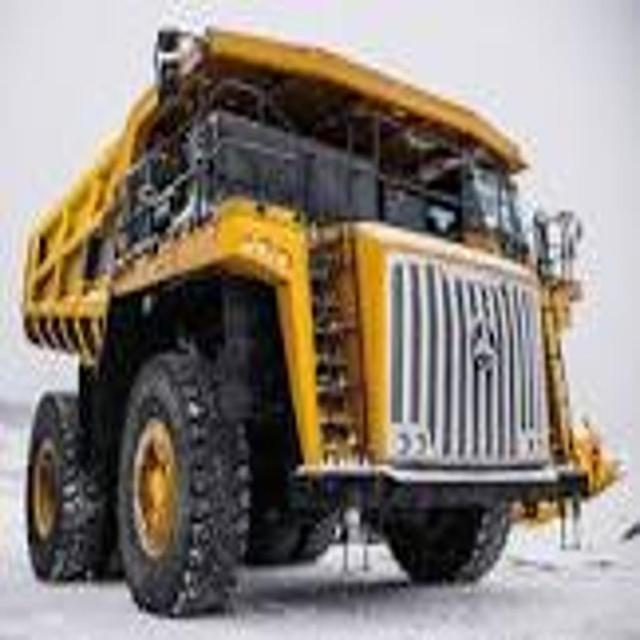dump_truck: (23, 14, 617, 620)
